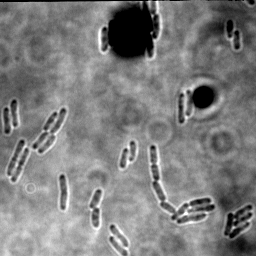Dividing: (5, 138, 26, 177), (11, 147, 30, 183), (58, 174, 69, 211)
Microcolony: (148, 144, 216, 225), (31, 107, 68, 155), (224, 203, 254, 239)
Rod: (108, 223, 129, 248), (108, 236, 129, 255), (89, 188, 103, 211), (99, 26, 110, 54), (1, 107, 11, 136), (185, 89, 195, 118), (90, 207, 102, 230), (151, 13, 161, 40), (177, 93, 185, 124), (127, 140, 137, 164), (119, 148, 129, 169), (233, 28, 242, 51), (225, 18, 234, 40)
